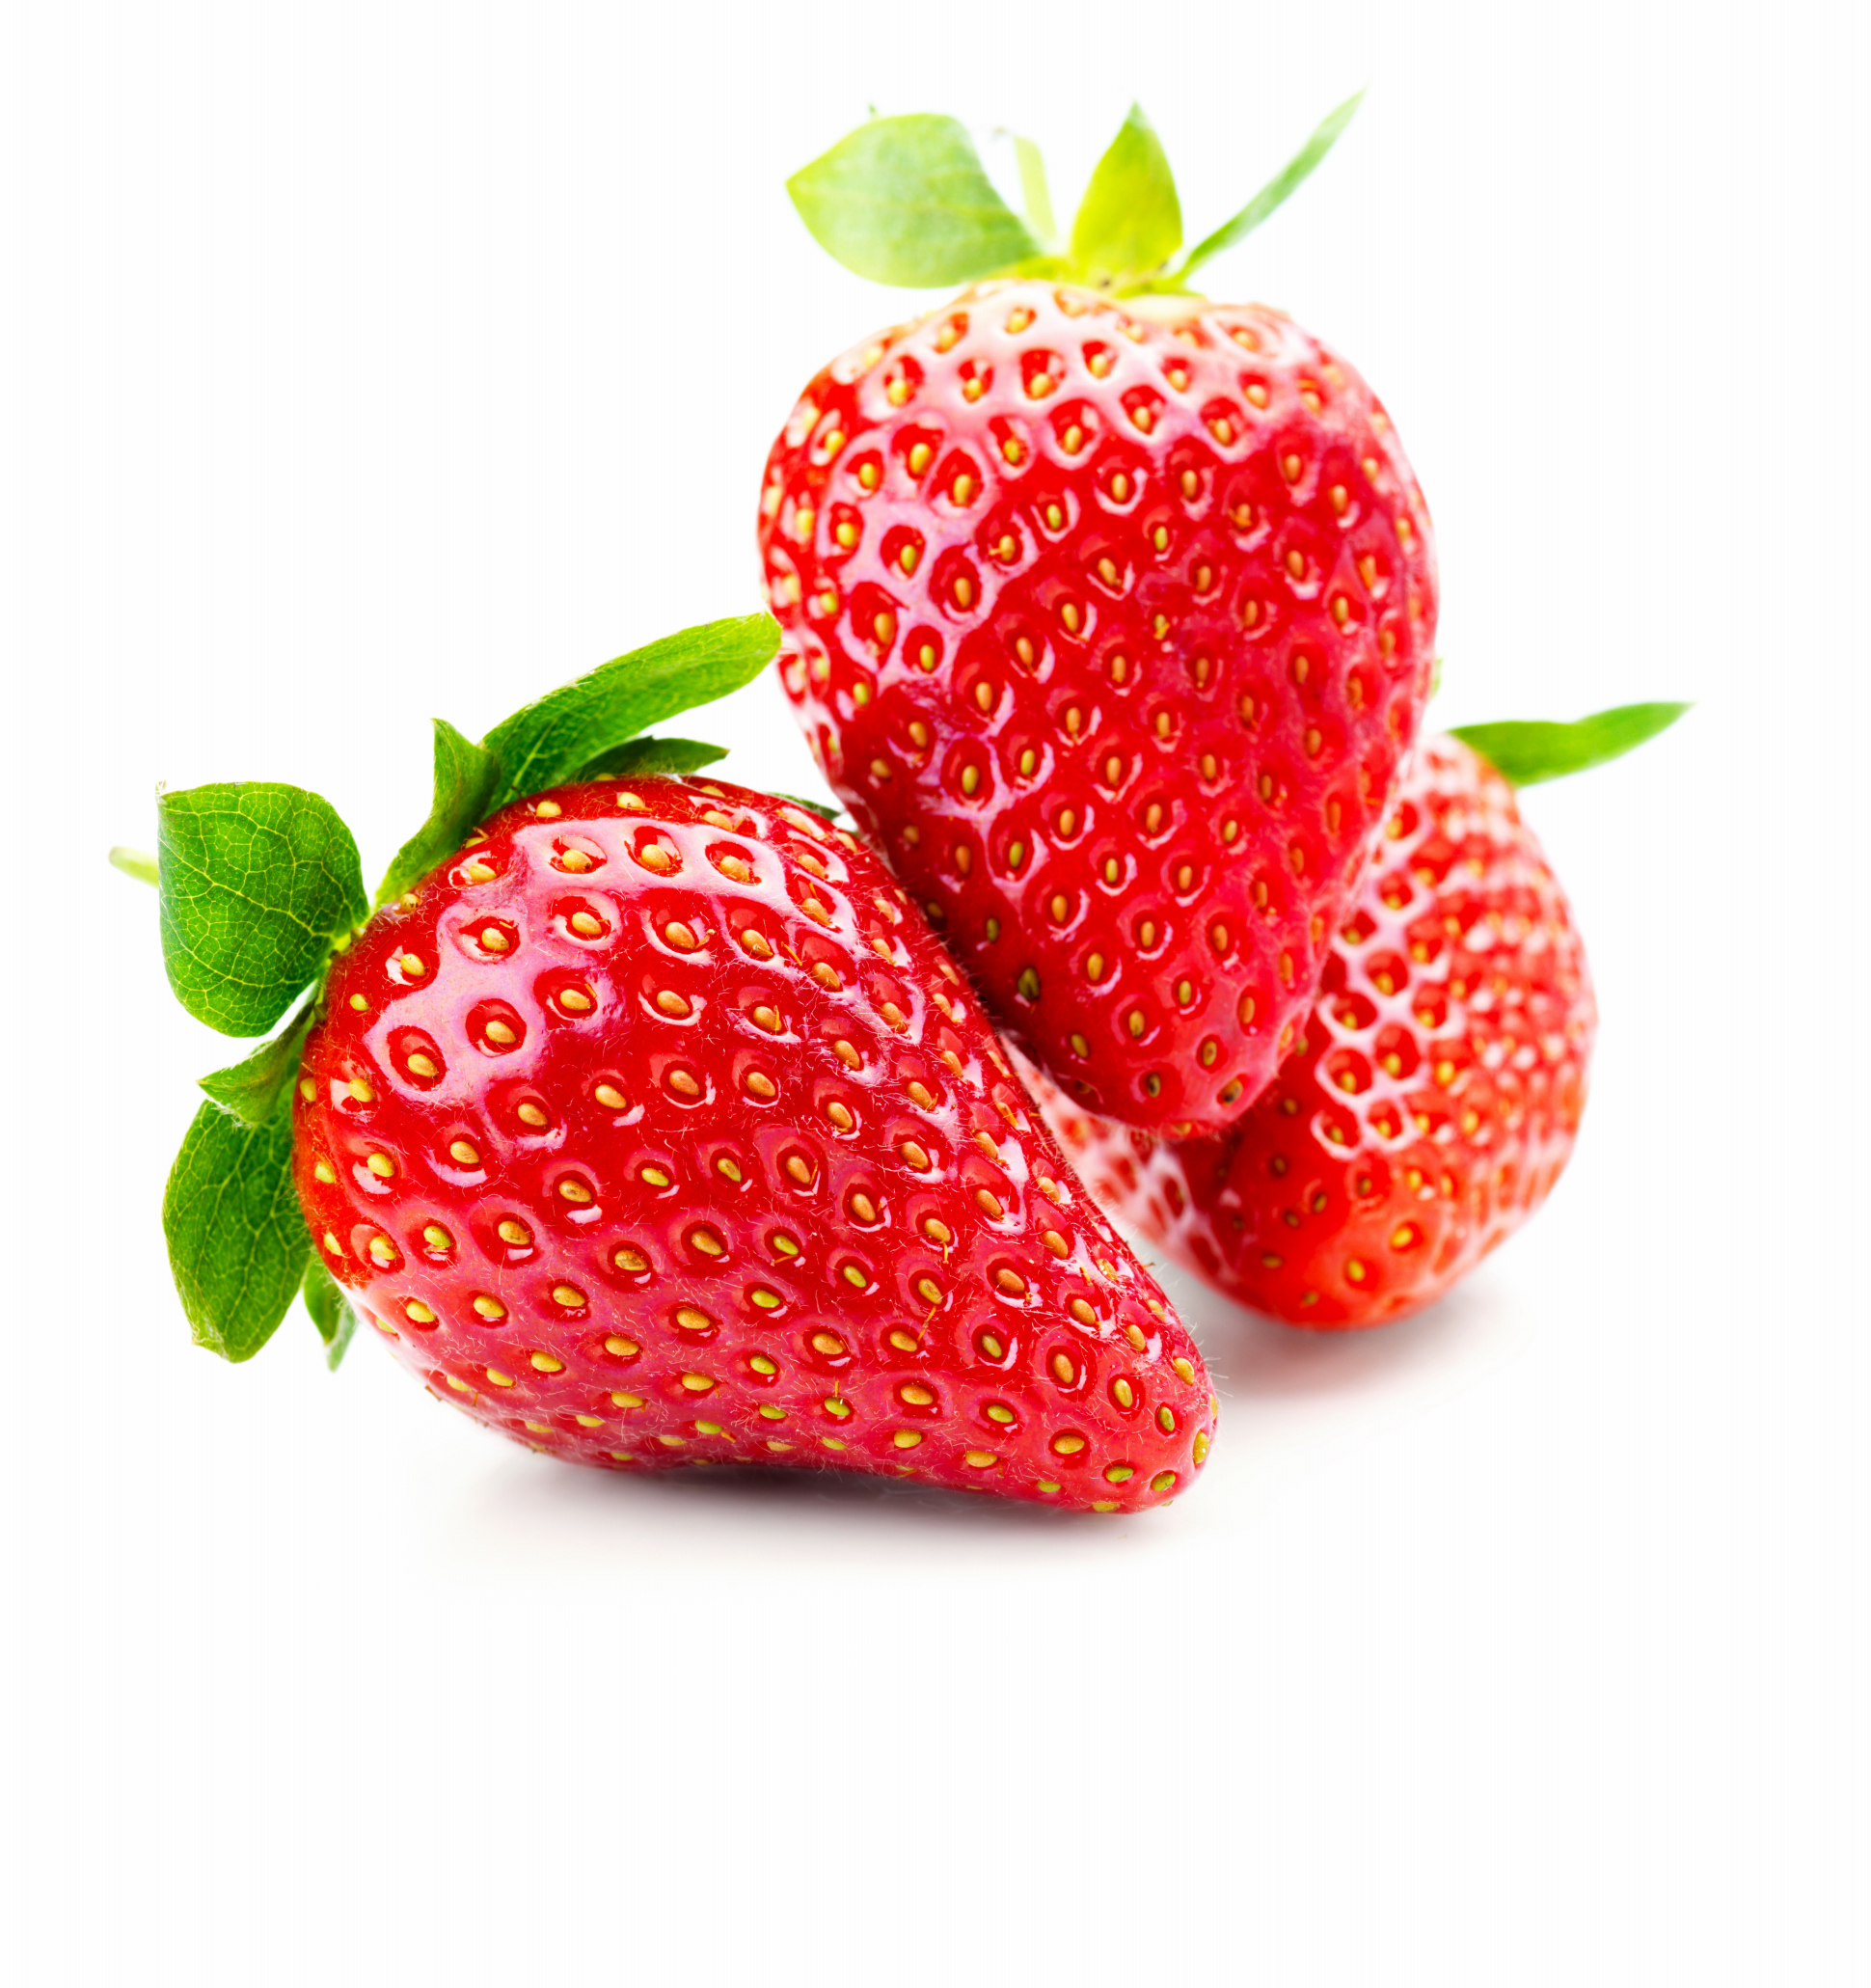strawberry: (297, 772, 1175, 1545), (761, 238, 1398, 1122), (1208, 676, 1611, 1318)
